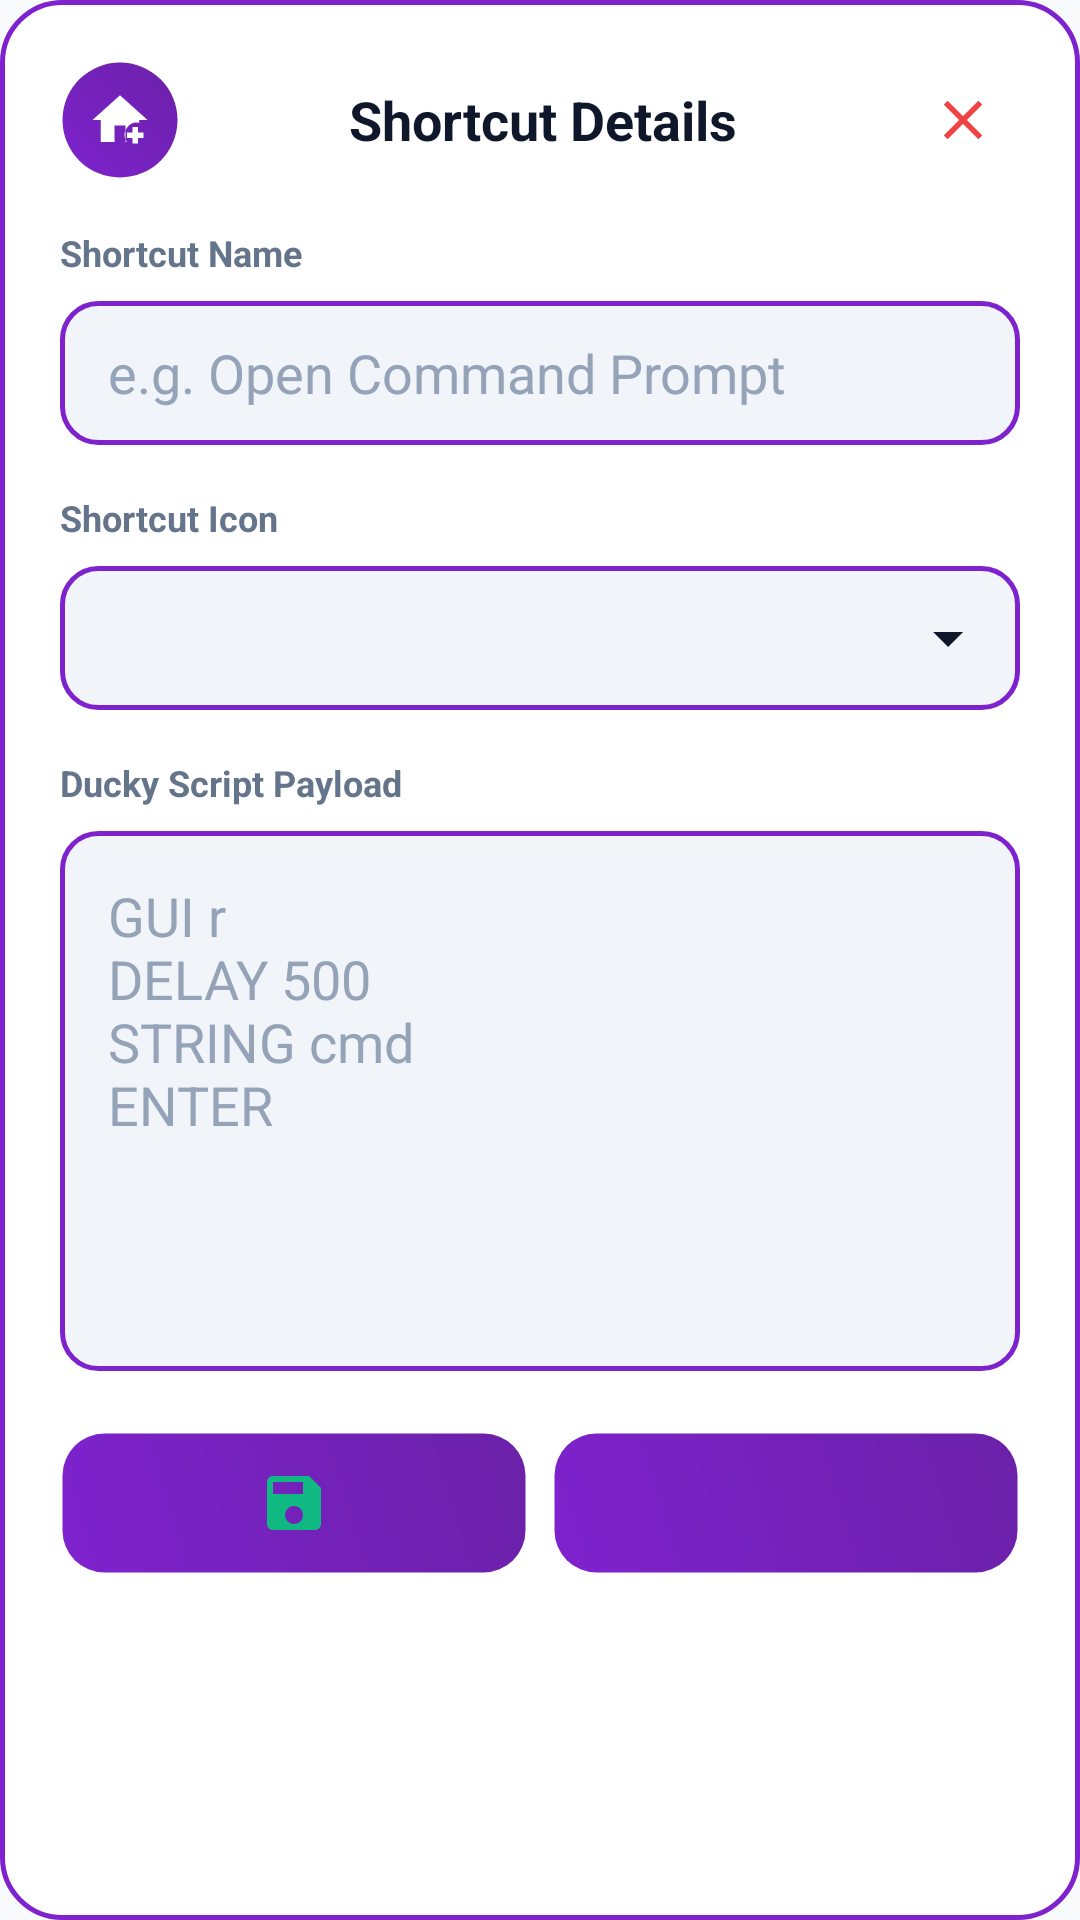

Where icons sit on this 1080×1920 app screen, as box(x1, y1, x2, y2):
Add to Home Screen: box(62, 62, 178, 178)
Close Popup: box(944, 101, 982, 139)
